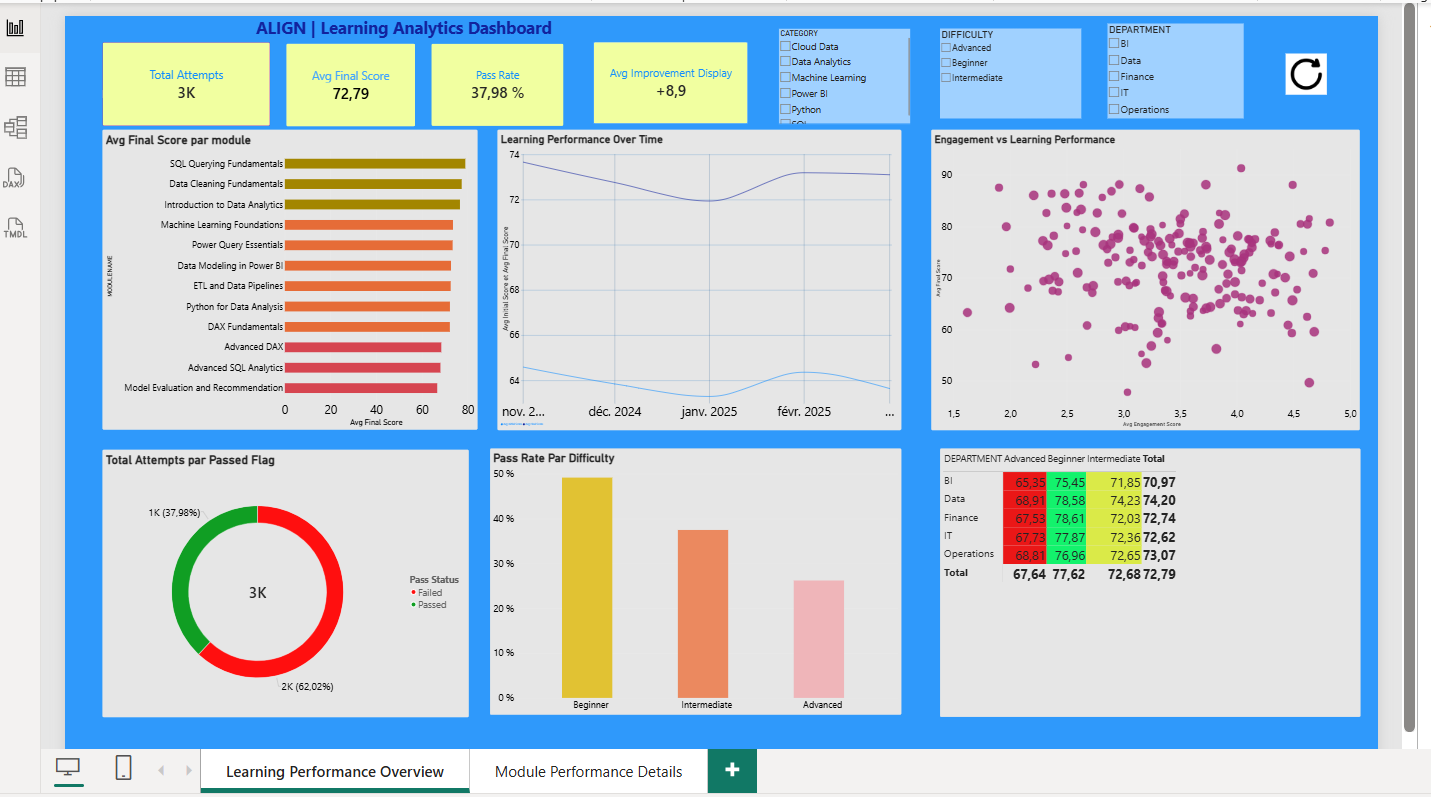

The dashboard page shown, as its layout file describes it:
{"tool":"powerbi","page":{"name":"Learning Performance Overview","canvas":[7000,4000],"ordinal":0},"visuals":[{"type":"textbox","box":[10,0,280,280],"z":0},{"type":"textbox","box":[196.8,0,3214.1,139.9],"z":2},{"type":"cardVisual","fields":{"Data":["DIM_DATE.Total Attempts"]},"box":[200,140,893.3,446.7],"z":3},{"type":"cardVisual","fields":{"Data":["DIM_DATE.Avg Final Score"]},"box":[1181.2,143.8,687.5,443.8],"z":4},{"type":"cardVisual","fields":{"Data":["DIM_DATE.Pass Rate"]},"box":[1953.3,146.7,706.7,440],"z":5},{"type":"cardVisual","fields":{"Data":["DIM_DATE.Avg Improvement Display"]},"box":[2820,140,820,433.3],"z":6},{"type":"barChart","title":"Avg Final Score par module ","fields":{"Category":["DIM_MODULE.MODULENAME"],"Y":["DIM_DATE.Avg Final Score"]},"box":[200,606.7,2000,1600],"z":7},{"type":"lineChart","title":"Learning Performance Over Time","fields":{"Category":["DIM_DATE.DATE.Variation.Hiérarchie de dates.Année","DIM_DATE.DATE.Variation.Hiérarchie de dates.Mois"],"Y":["DIM_DATE.Avg Initial Score","DIM_DATE.Avg Final Score"]},"box":[2306.7,606.7,2153.2,1602.7],"z":8},{"type":"columnChart","title":"Pass Rate Par Difficulty","fields":{"Category":["DIM_MODULE.DIFFICULTY"],"Y":["DIM_DATE.Pass Rate"]},"box":[2266.7,2306.7,2193.3,1420],"z":9},{"type":"donutChart","title":"Total Attempts par Passed Flag","fields":{"Category":["FACT_LEARNINGATTEMPT.Pass Status"],"Y":["DIM_DATE.Total Attempts"]},"box":[200,2313.3,1953.3,1426.7],"z":10},{"type":"slicer","fields":{"Values":["DIM_USER.DEPARTMENT"]},"box":[5560,40,726.7,506.7],"z":12},{"type":"slicer","fields":{"Values":["DIM_MODULE.CATEGORY"]},"box":[3806.7,66.7,700,506.7],"z":13},{"type":"scatterChart","title":"Engagement vs Learning Performance","fields":{"Category":["DIM_USER.USERID"],"Size":["DIM_DATE.Total Attempts"],"X":["FACT_LEARNINGATTEMPT.Avg Engagement Score"],"Y":["DIM_DATE.Avg Final Score"]},"box":[4620,606.7,2285.6,1602.7],"z":14},{"type":"pivotTable","fields":{"Columns":["DIM_MODULE.DIFFICULTY"],"Rows":["DIM_USER.DEPARTMENT"],"Values":["DIM_DATE.Avg Final Score"]},"box":[4666.7,2306.7,2242.3,1431.8],"z":15},{"type":"image","box":[6426.7,200,386.7,220],"z":17},{"type":"slicer","fields":{"Values":["DIM_MODULE.DIFFICULTY"]},"box":[4666.7,66.7,753.3,480],"z":18}]}

Visuals, with their boxes in screenshot pixels (x1, y1, x2, y2):
textbox: 62, 11, 115, 64
textbox: 97, 11, 706, 38
cardVisual - DIM_DATE.Total Attempts: 98, 38, 267, 122
cardVisual - DIM_DATE.Avg Final Score: 284, 38, 414, 123
cardVisual - DIM_DATE.Pass Rate: 430, 39, 564, 122
cardVisual - DIM_DATE.Avg Improvement Display: 594, 38, 750, 120
"Avg Final Score par module " barChart: 98, 126, 477, 430
"Learning Performance Over Time" lineChart: 497, 126, 905, 430
"Pass Rate Par Difficulty" columnChart: 489, 449, 905, 718
"Total Attempts par Passed Flag" donutChart: 98, 450, 468, 720
slicer - DIM_USER.DEPARTMENT: 1114, 19, 1252, 115
slicer - DIM_MODULE.CATEGORY: 782, 24, 914, 120
"Engagement vs Learning Performance" scatterChart: 936, 126, 1369, 430
pivotTable - DIM_MODULE.DIFFICULTY x DIM_USER.DEPARTMENT: 945, 449, 1370, 720
image: 1278, 49, 1352, 91
slicer - DIM_MODULE.DIFFICULTY: 945, 24, 1087, 115
